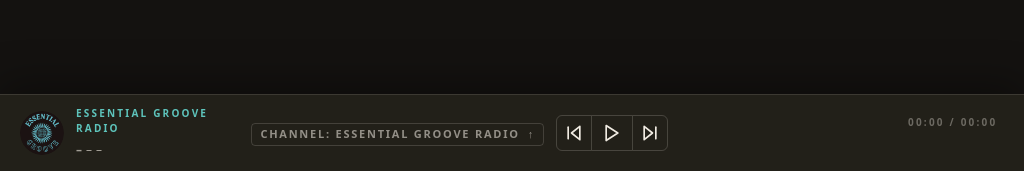
Test case: RadioPlayer › opens the channel menu and shows all channel options
Step 1. Click the button with aria-label "select channel" → [398, 135], box left=251, top=123, right=544, bottom=146
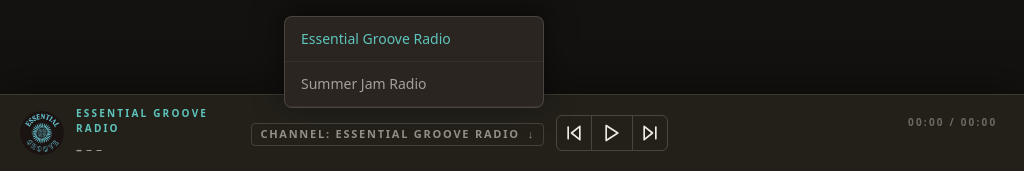
Check: the menu is shown, box left=284, top=16, right=544, bottom=108
Check: the list item "Essential Groove Radio" is shown, box left=285, top=17, right=543, bottom=62
Check: the list item "Summer Jam Radio" is shown, box left=285, top=62, right=543, bottom=107
